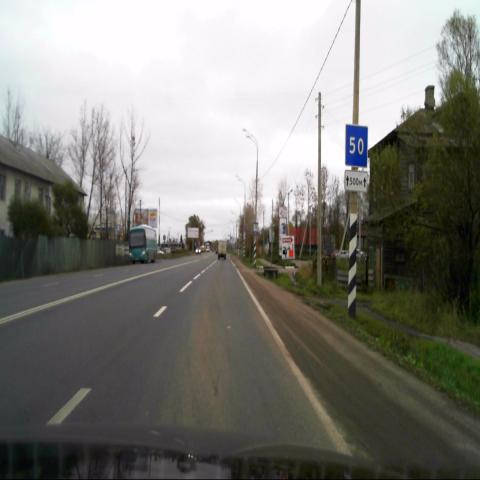6_2: (346, 124, 368, 166)
